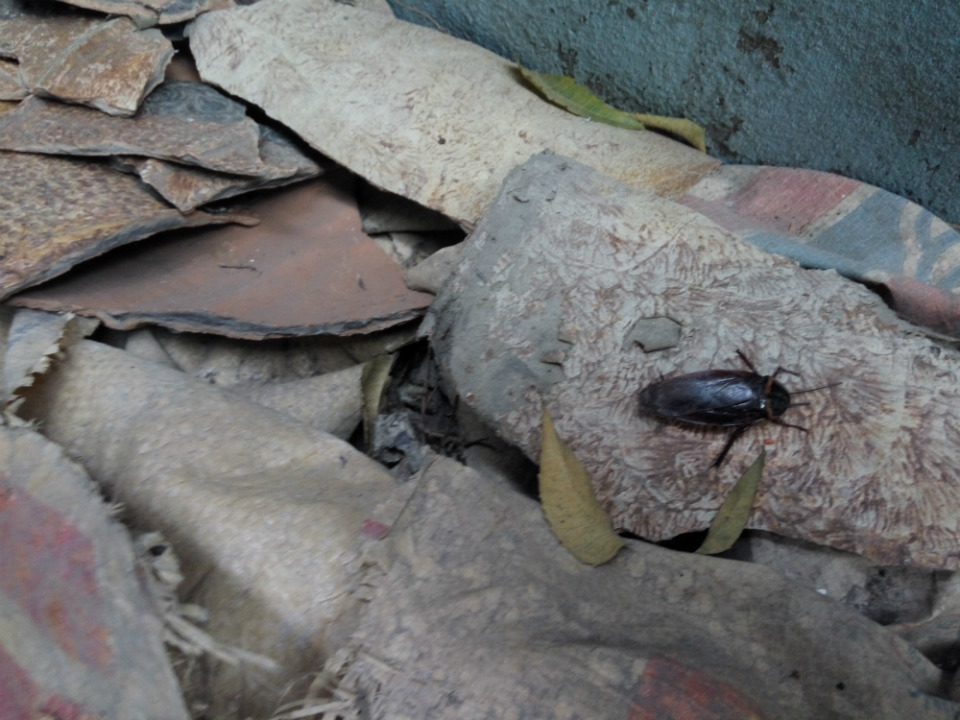cockroach: (590, 338, 878, 470)
